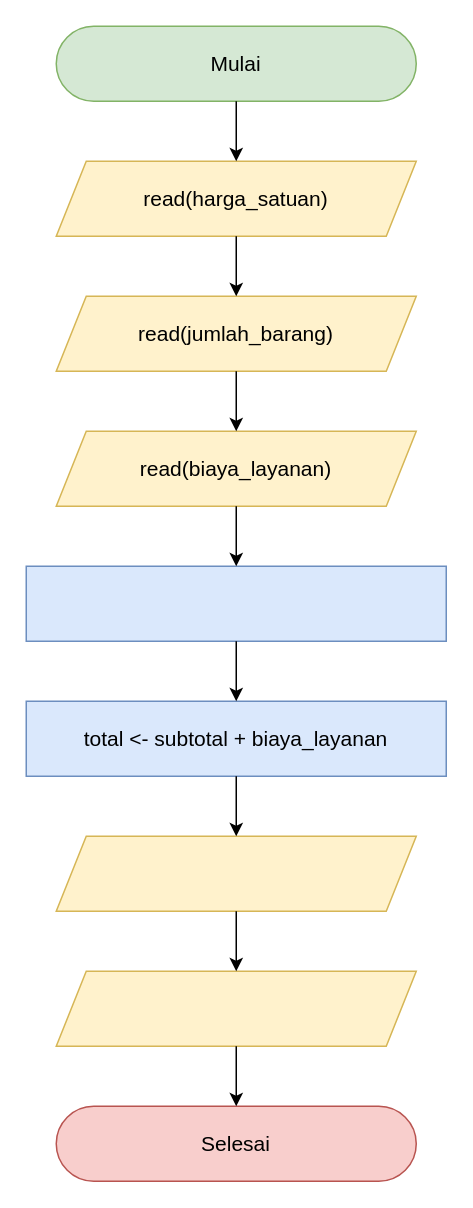
This 473x1208 diagram has some shape labels left out. The centre of each missing label's shape, as x and y in pixels:
subtotal <- harga_satuan * jumlah_barang: point 235,603
write(subtotal): point 235,873
write(total): point 235,1008
